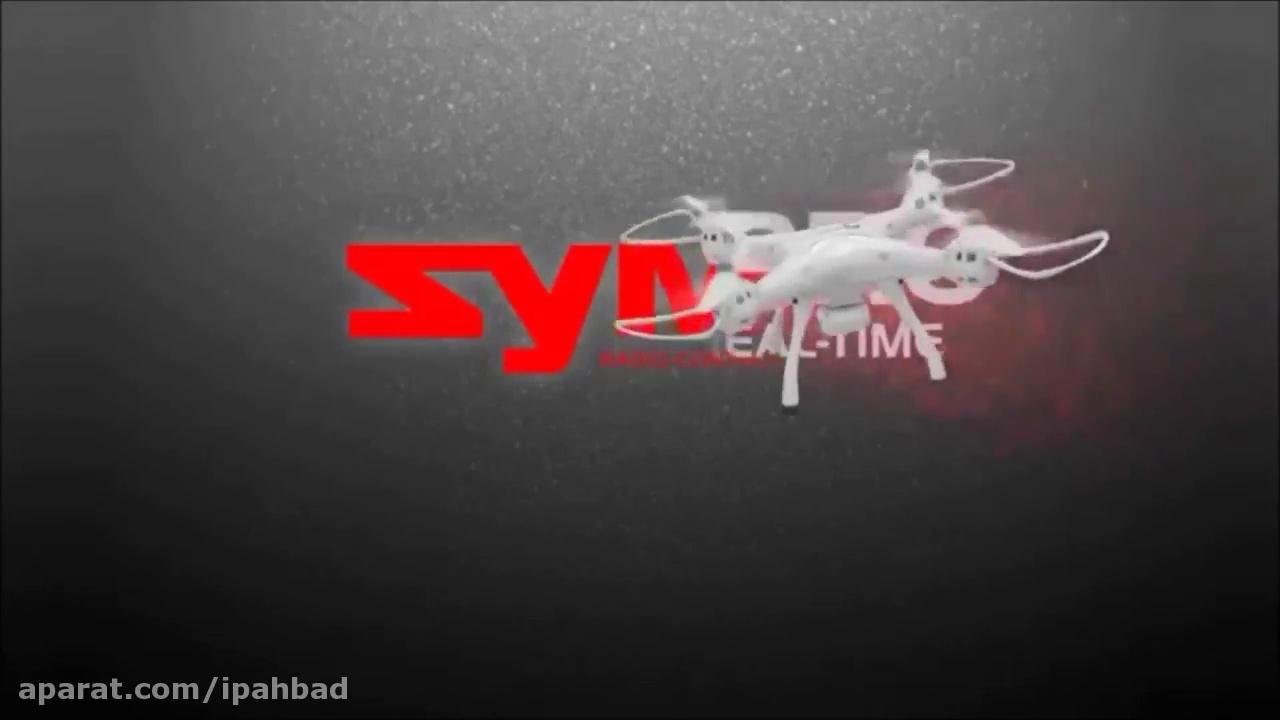drone: (610, 146, 1110, 411)
